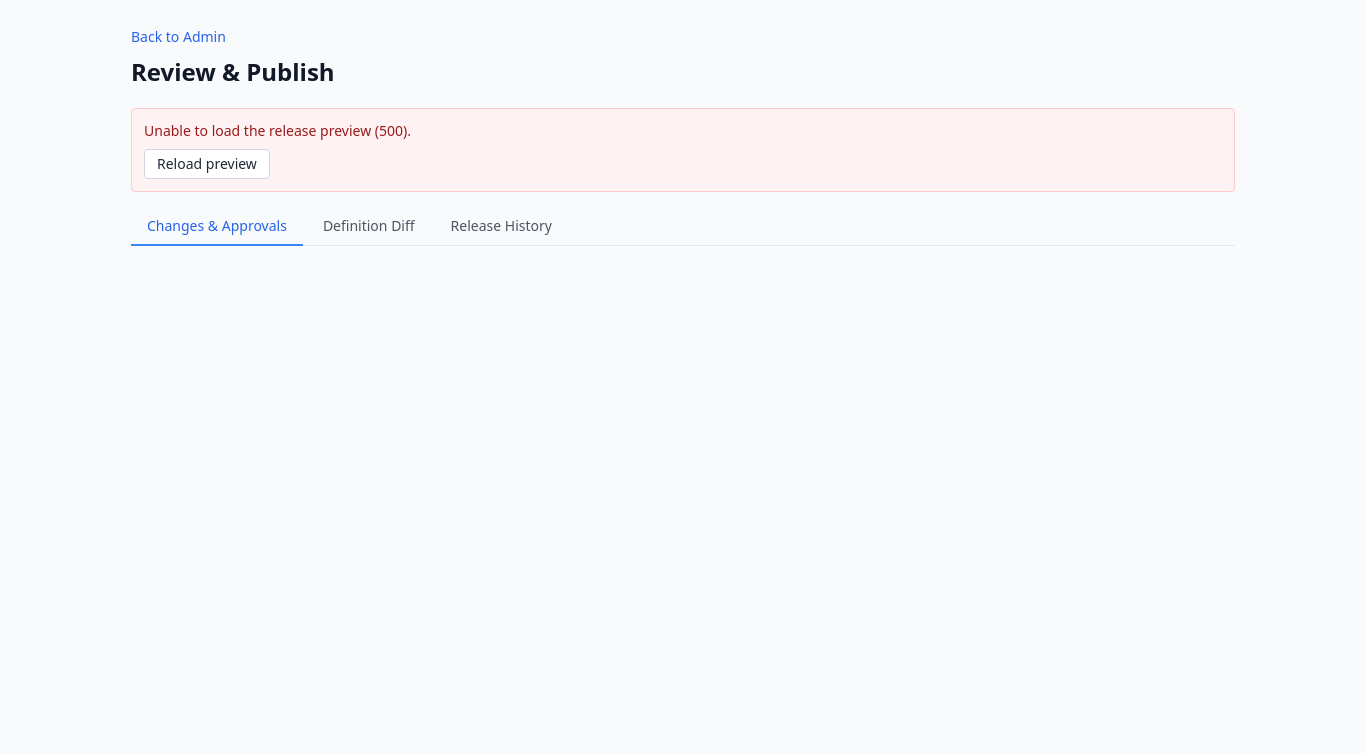
Release History: the list › is reachable when the release preview fails (Correction 39)
This screenshot has width=1366, height=753.
Check: the text "Unable to load the release preview (500)." is shown, box [144,121,411,140]
Click the tab with test id "release-history-tab" at (501, 227), box [435,208,568,246]
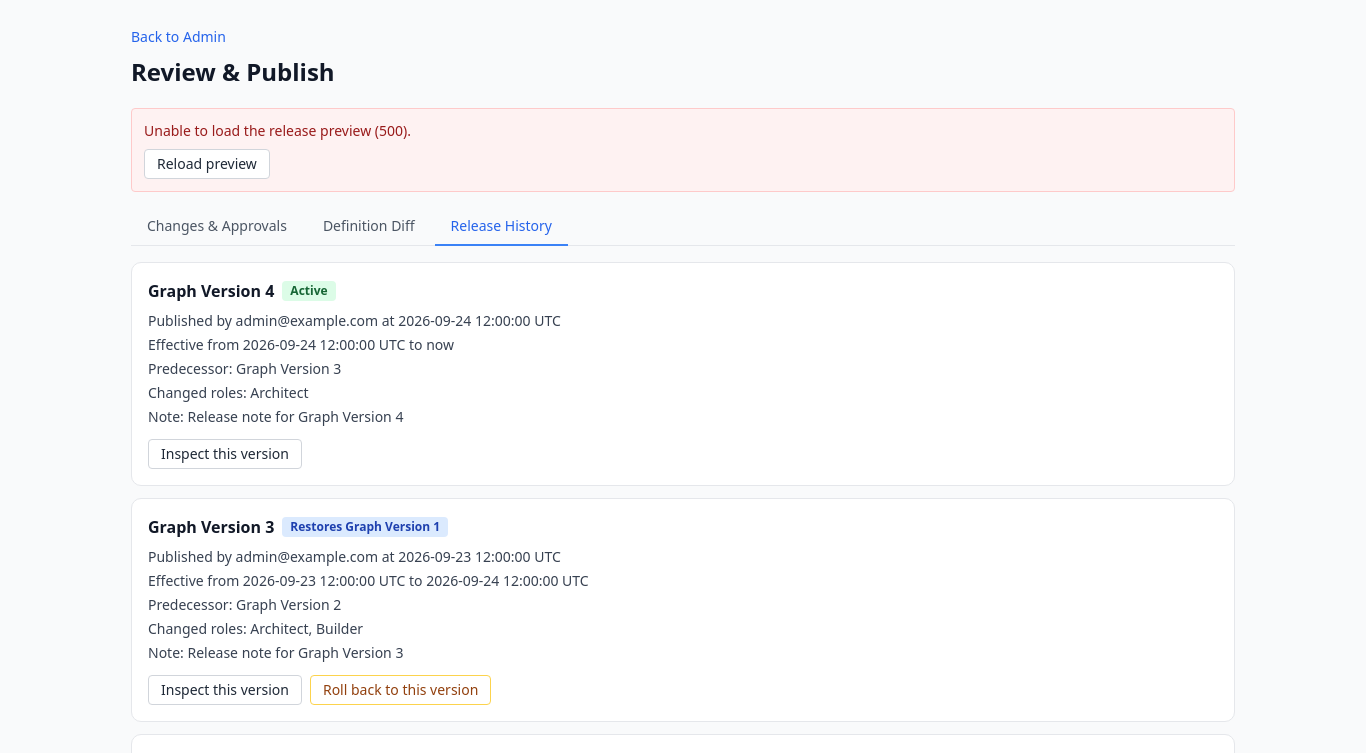
Check: the list item with test id "release-history-row-4" is shown, box [131,262,1235,486]
